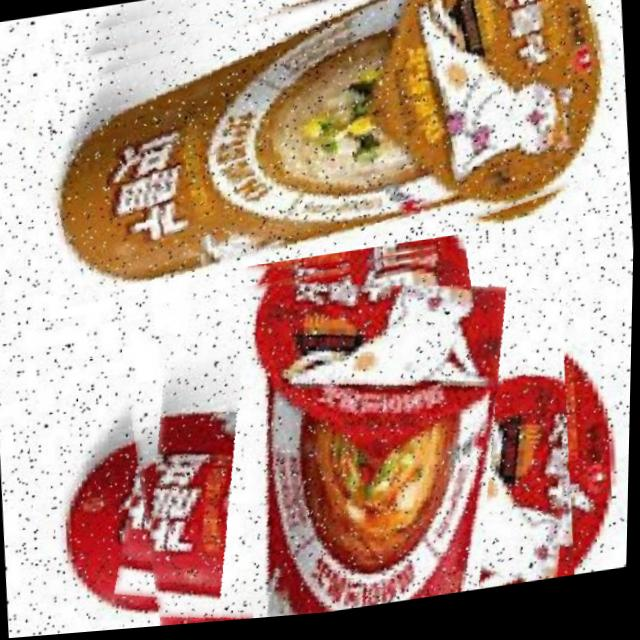Miscellaneous: (110, 230, 582, 632), (20, 0, 633, 299)
